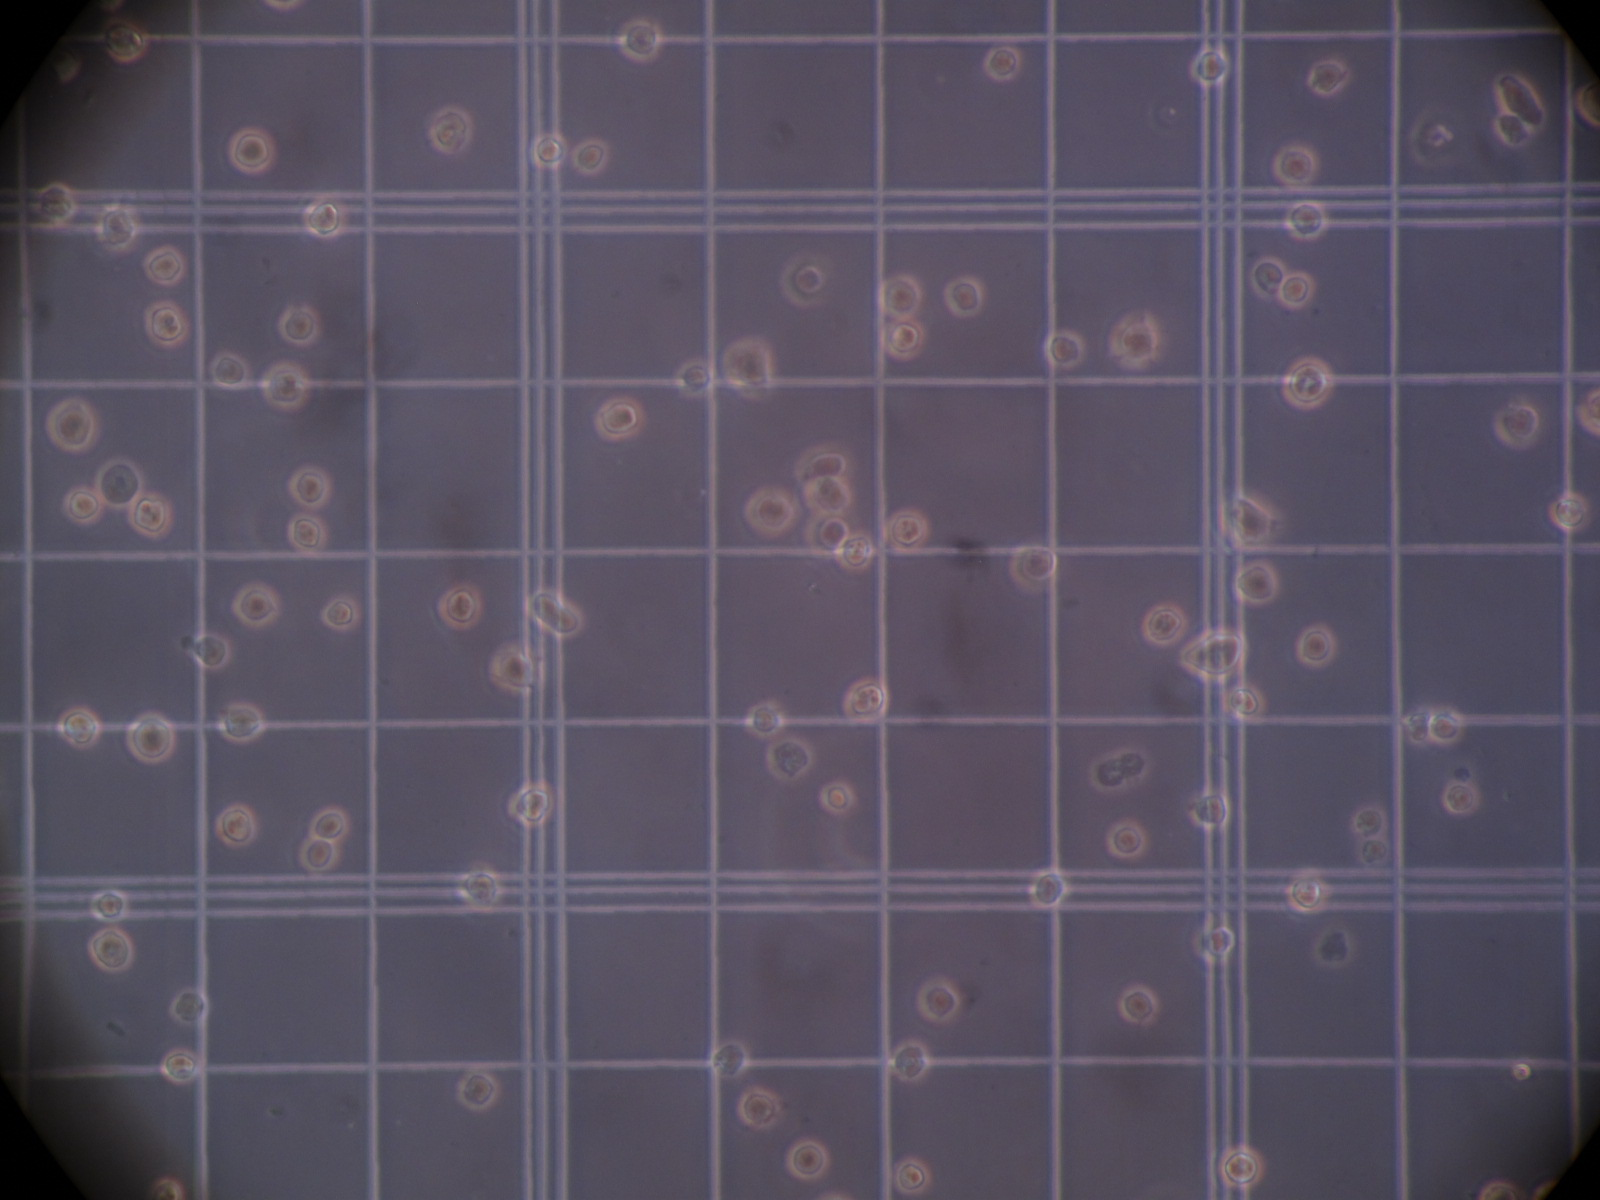hemo: (1217, 490, 1286, 555), (523, 586, 585, 640), (721, 337, 774, 400), (1180, 628, 1245, 679), (1107, 310, 1162, 371), (1494, 71, 1546, 134), (1279, 354, 1333, 412), (488, 643, 540, 697), (743, 485, 794, 539), (94, 456, 145, 511), (47, 398, 96, 453), (1493, 393, 1540, 450), (1407, 108, 1450, 166), (593, 395, 645, 442), (780, 255, 826, 308), (127, 712, 174, 764), (144, 300, 191, 349), (227, 125, 273, 175), (1187, 918, 1235, 966), (261, 361, 309, 408), (916, 976, 960, 1027), (1216, 1142, 1264, 1189), (506, 780, 556, 826), (89, 926, 135, 976), (1010, 546, 1057, 592), (842, 678, 889, 724), (763, 740, 813, 784), (790, 442, 849, 479), (800, 476, 854, 516), (438, 584, 483, 632), (93, 204, 136, 253), (428, 105, 470, 155), (879, 318, 925, 363), (784, 1137, 830, 1181), (129, 492, 173, 538), (302, 192, 344, 241), (1233, 558, 1277, 604), (616, 16, 661, 61), (232, 582, 277, 626), (803, 511, 849, 553), (884, 509, 929, 553), (1141, 603, 1187, 645), (58, 706, 101, 751), (1221, 682, 1267, 724), (877, 274, 921, 316), (215, 804, 258, 848), (220, 701, 265, 744), (283, 511, 328, 553), (1295, 621, 1335, 668), (459, 868, 501, 911), (456, 1068, 499, 1111), (1288, 871, 1329, 915), (105, 21, 149, 63), (278, 304, 320, 347), (142, 245, 185, 286), (889, 1155, 931, 1196), (1272, 146, 1317, 185), (1284, 202, 1328, 241), (1550, 492, 1590, 533), (1027, 868, 1067, 910), (1117, 983, 1158, 1025), (889, 1040, 930, 1082), (208, 350, 249, 391), (944, 276, 983, 319), (168, 984, 210, 1024), (296, 836, 339, 875), (675, 357, 713, 401), (1249, 255, 1285, 300), (289, 465, 329, 505), (66, 485, 106, 526), (740, 1087, 779, 1128), (309, 803, 348, 845), (37, 180, 76, 222), (1044, 330, 1085, 369), (1106, 819, 1146, 858), (569, 137, 610, 176), (191, 632, 231, 672), (1188, 49, 1230, 87), (161, 1047, 203, 1085), (983, 45, 1022, 83), (1191, 792, 1230, 829), (1277, 272, 1314, 313), (1306, 61, 1348, 96), (530, 132, 568, 170), (1443, 776, 1479, 816), (745, 701, 784, 737), (711, 1042, 748, 1079), (320, 596, 360, 630), (837, 534, 872, 572), (88, 887, 127, 921), (1494, 113, 1531, 147), (1576, 81, 1600, 130), (1351, 804, 1386, 837), (1430, 705, 1460, 742), (1400, 706, 1429, 745), (816, 783, 855, 812), (1576, 389, 1600, 435), (1356, 836, 1390, 865), (1478, 1179, 1518, 1200), (147, 1177, 184, 1200)
